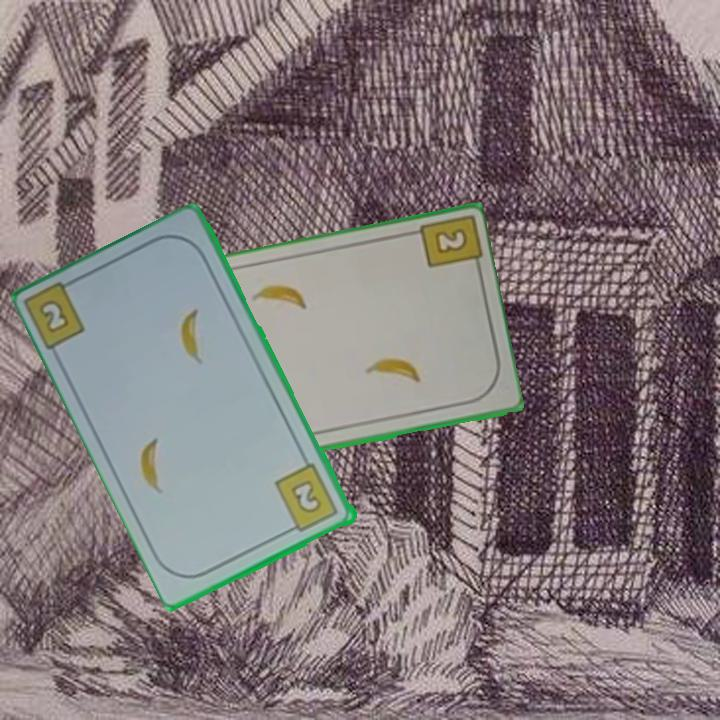2b: (23, 273, 89, 355), (272, 460, 342, 536), (430, 224, 471, 258)
